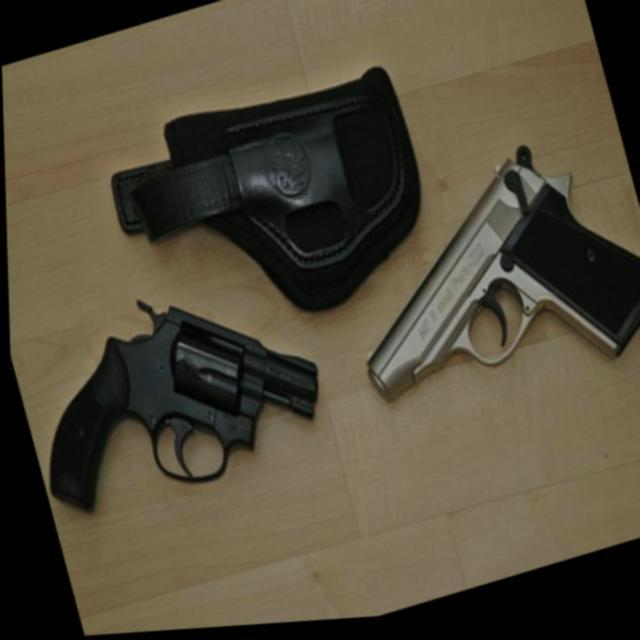weapon: (309, 118, 640, 441), (7, 251, 336, 528)
